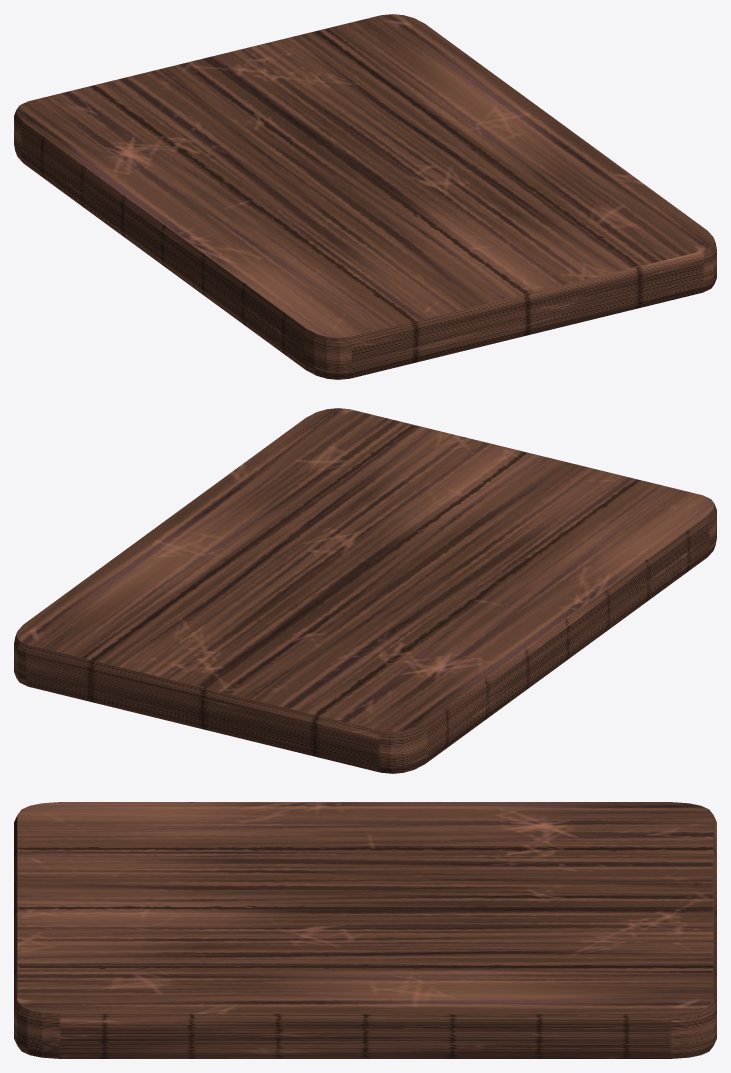
Rendered from choppingboard.fbx.
The picture shows the model from 3 angles, top to bottom: view 1: azimuth 30°, elevation 25°; view 2: azimuth 150°, elevation 25°; view 3: azimuth 270°, elevation 25°; orthographic projection. The views are drawn at different scales.
Visible parts, largest first — view 1: chopping board; view 2: chopping board; view 3: chopping board.
Part boxes in pixels (bbox=[...]): chopping board: bbox=[14, 14, 716, 379]; chopping board: bbox=[14, 408, 716, 773]; chopping board: bbox=[14, 802, 716, 1058].
Bounding box in the file's own units: 144 × 14.17 × 200.
